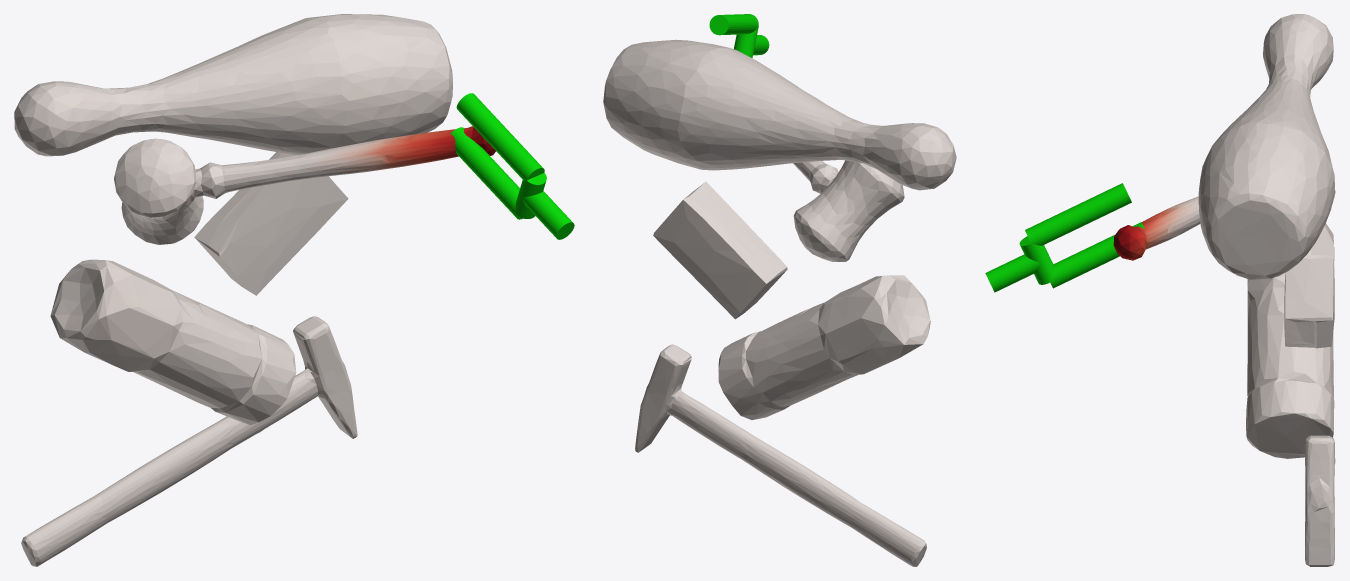
File: round_000_trial_000.obj
The picture shows the model from 3 angles, left to right: view 1: azimuth 30°, elevation 25°; view 2: azimuth 150°, elevation 25°; view 3: azimuth 270°, elevation 25°; orthographic projection. The views are drawn at different scales.
Parts seen in each view (by area): view 1: geometry_0, geometry_1; view 2: geometry_0, geometry_1; view 3: geometry_0, geometry_1.
Part boxes in pixels (x1=…): geometry_0: x1=14, y1=14, x2=495, y2=566; geometry_1: x1=450, y1=93, x2=574, y2=239; geometry_0: x1=603, y1=39, x2=956, y2=566; geometry_1: x1=709, y1=14, x2=769, y2=57; geometry_0: x1=1113, y1=14, x2=1335, y2=566; geometry_1: x1=985, y1=183, x2=1144, y2=292.
Bounding box in the file's own units: 0.1996 × 0.2405 × 0.1613.
